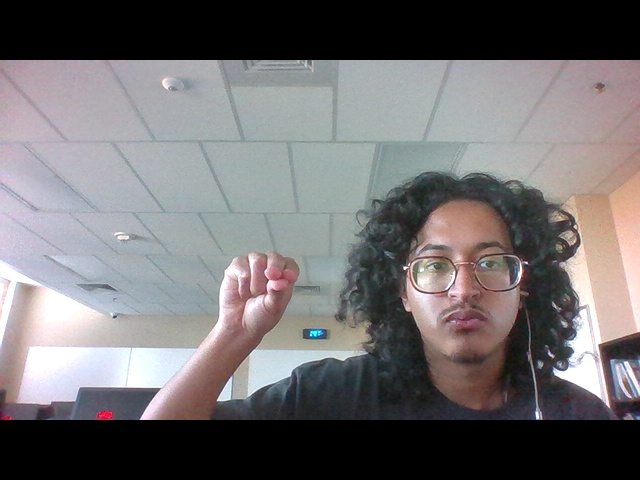no: (215, 244, 311, 344)
